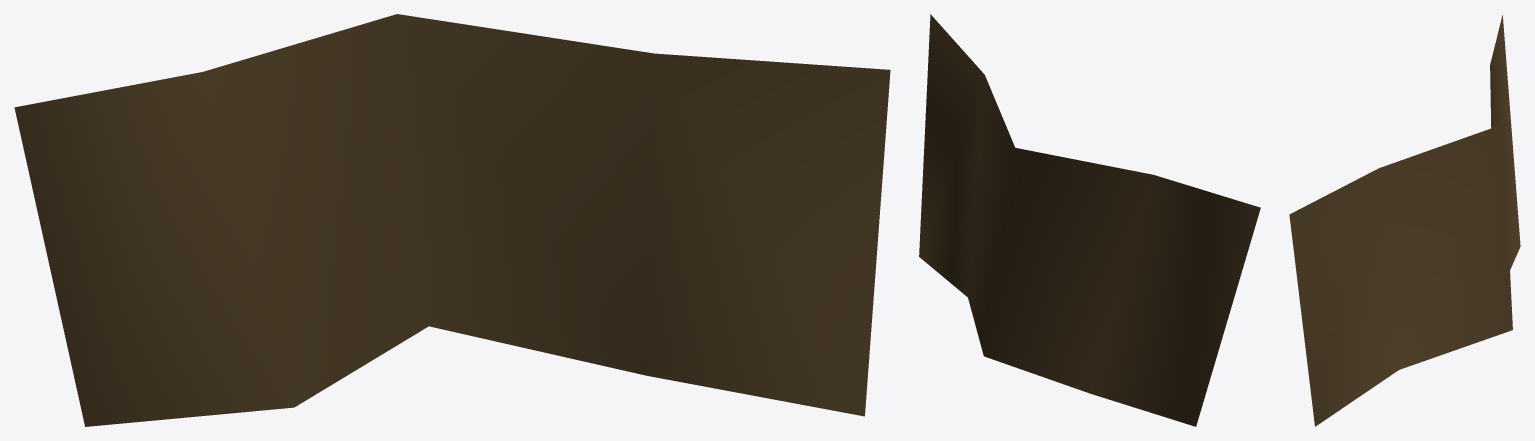
Rendered from SWORDLIGHT20_PS-AREA03_201.fbx.
The picture shows the model from 3 angles, left to right: view 1: azimuth 30°, elevation 25°; view 2: azimuth 150°, elevation 25°; view 3: azimuth 270°, elevation 25°; orthographic projection. The views are drawn at different scales.
Visible parts, largest first — view 1: SWORDLIGHT20_PS-AREA03_201; view 2: SWORDLIGHT20_PS-AREA03_201; view 3: SWORDLIGHT20_PS-AREA03_201.
Boxes of the visible parts, bbox=[...] form: SWORDLIGHT20_PS-AREA03_201: bbox=[14, 14, 890, 426]; SWORDLIGHT20_PS-AREA03_201: bbox=[919, 14, 1260, 426]; SWORDLIGHT20_PS-AREA03_201: bbox=[1289, 15, 1520, 426].
Size of the model in its own units: 88953 by 44194 by 43352.
1 material, 1 textured.
